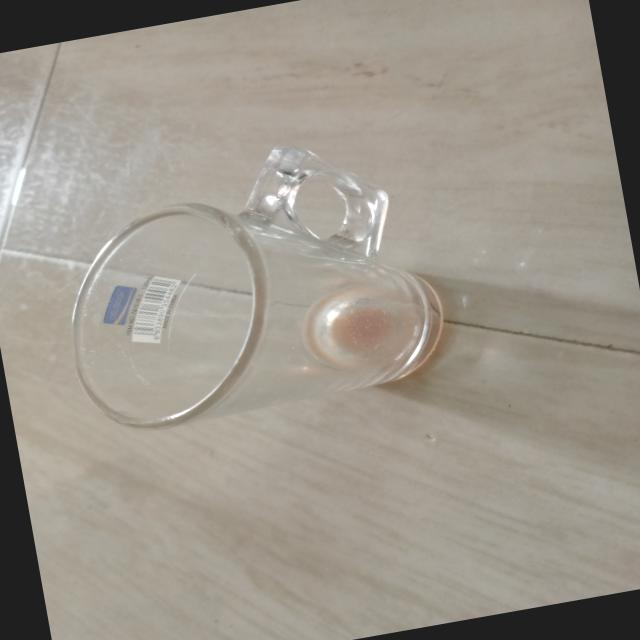glass-VX4N: (42, 123, 455, 442)
